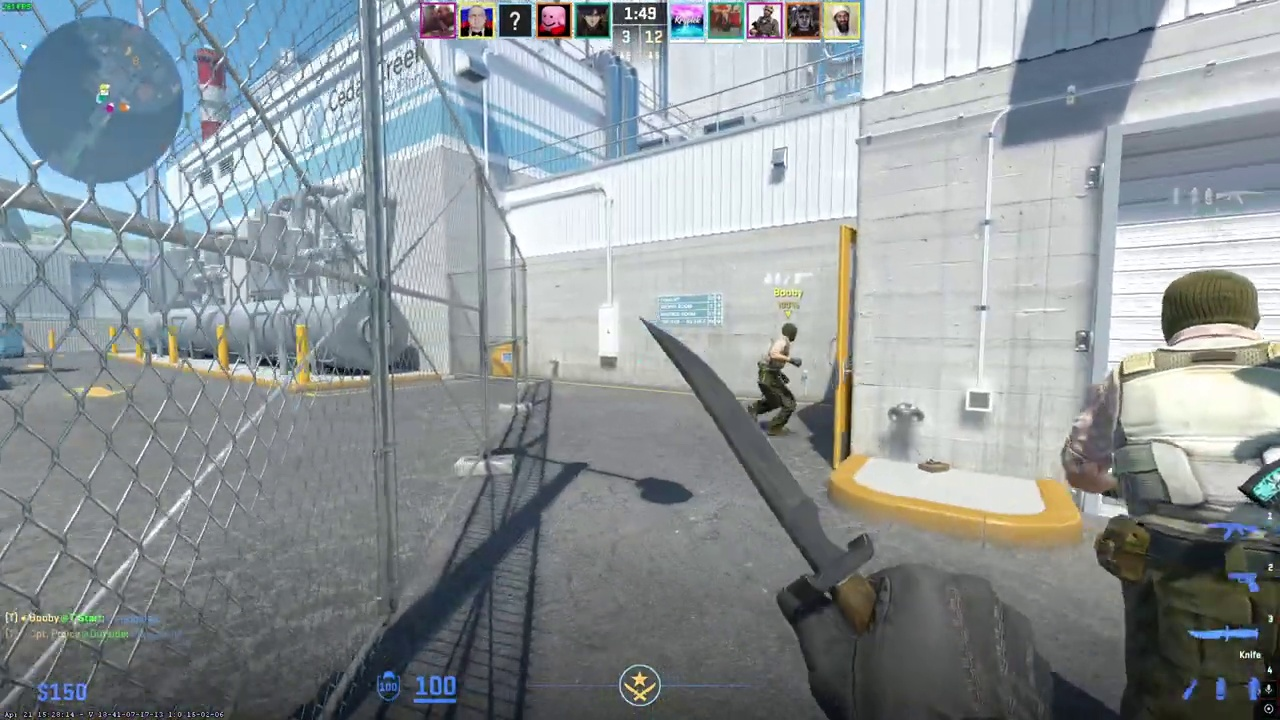Terrorist: (1072, 269, 1280, 720), (750, 323, 802, 436)
